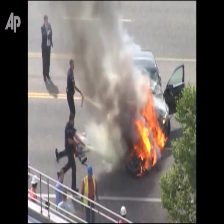fire_h: (132, 85, 166, 169)
fire_l: (138, 166, 143, 176)
